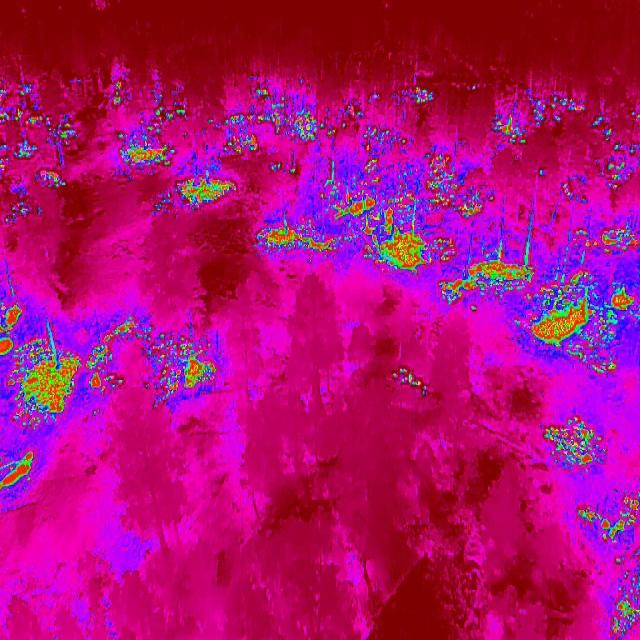fire: (318, 148, 536, 318), (0, 299, 136, 491), (521, 269, 637, 381), (215, 84, 339, 176), (0, 80, 72, 228), (546, 90, 640, 194), (140, 327, 222, 408), (110, 101, 192, 174), (255, 216, 352, 266), (566, 210, 640, 268), (338, 101, 421, 150), (542, 411, 605, 475), (577, 488, 640, 550), (177, 171, 235, 213), (388, 82, 441, 114), (609, 589, 640, 640), (488, 112, 528, 147), (392, 364, 429, 400), (104, 77, 126, 111)
